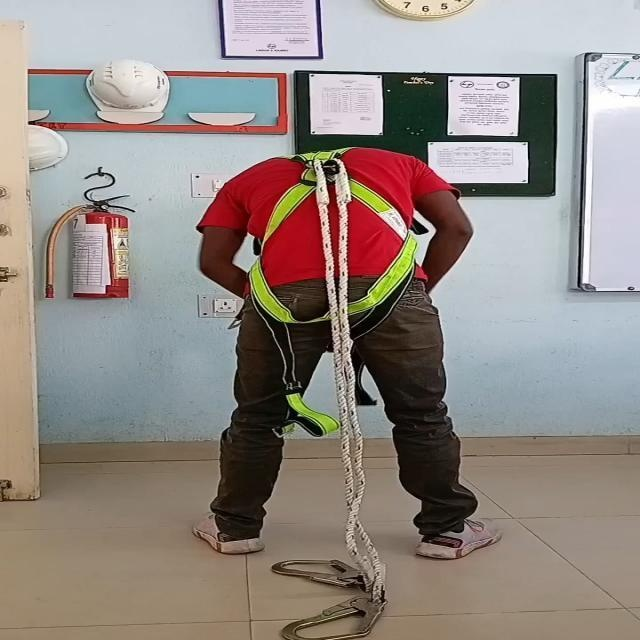Arnes_seguridad: (241, 142, 448, 416)
